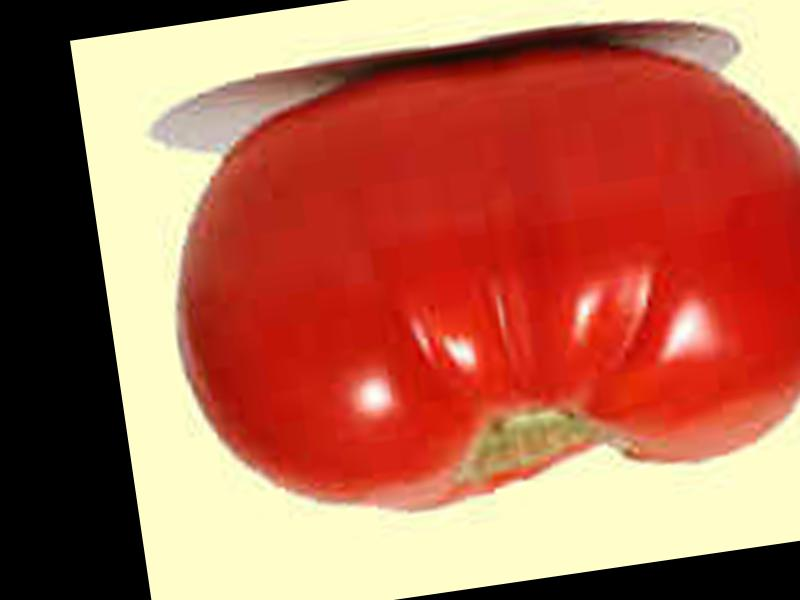Tomato: (147, 13, 800, 541)
